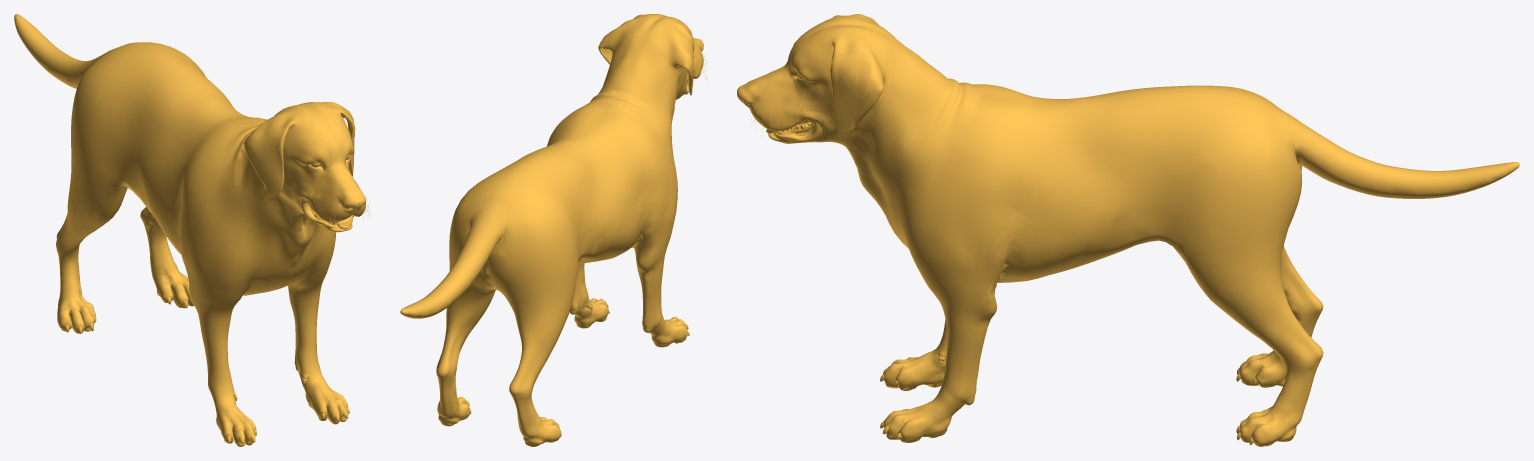
File: perro.fbx
The picture shows the model from 3 angles, left to right: view 1: azimuth 30°, elevation 25°; view 2: azimuth 150°, elevation 25°; view 3: azimuth 270°, elevation 25°; orthographic projection. The views are drawn at different scales.
Visible parts, largest first — view 1: Dog; view 2: Dog; view 3: Dog.
Boxes of the visible parts, x1,y1,x2,y2 form: Dog: (14, 14, 370, 446); Dog: (400, 14, 707, 446); Dog: (737, 14, 1519, 446).
Bounding box in the file's own units: 47.13 × 110 × 201.
